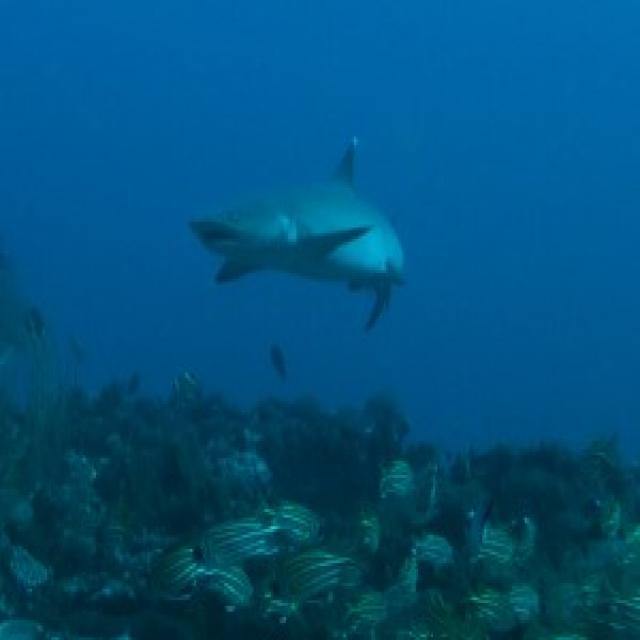Shark: (178, 122, 423, 337)
